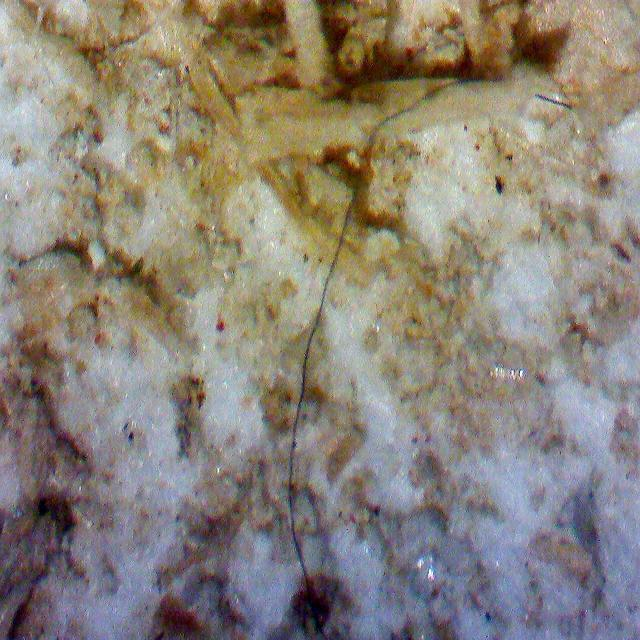microplastic: (288, 178, 360, 613), (534, 95, 570, 107)
